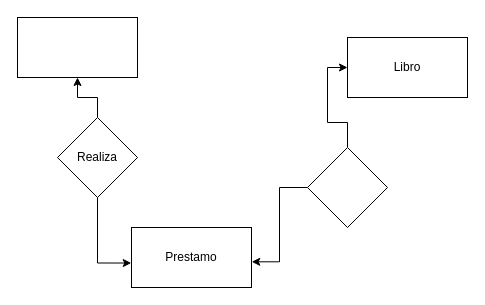
This 485x305 diagram has some shape labels left out. The shapes that lost their labels are listed below. From the top down, each one's centre as x and y in pixels, then its label:
At point (77, 47): "Persona".
At point (347, 187): "Usa".
